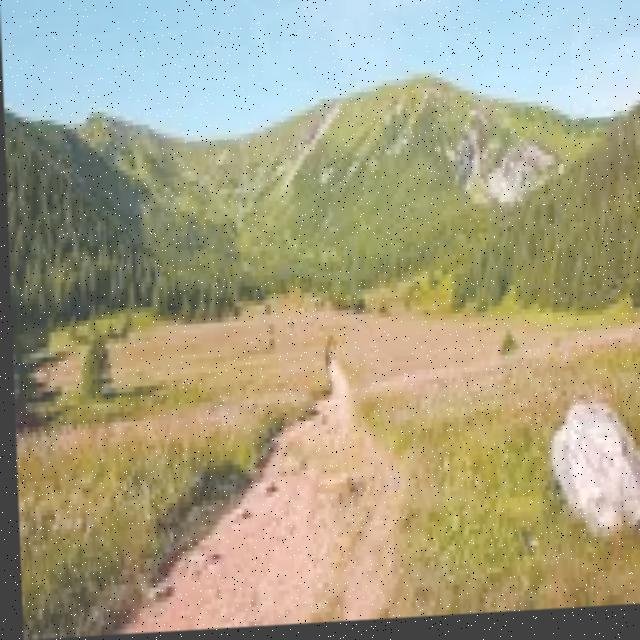Kopa Kondracka: (307, 0, 545, 155)
